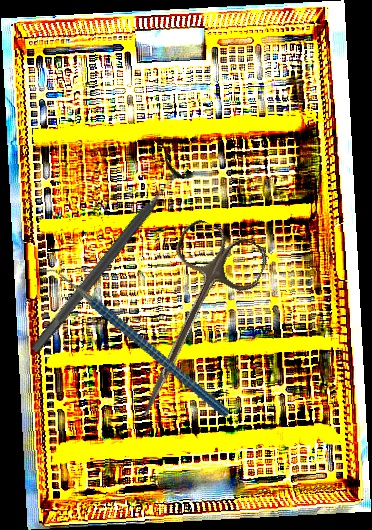Chopper: (32, 219, 232, 464)
Fixation Ring: (19, 151, 196, 363)
Iris Scissors: (108, 215, 272, 436)
